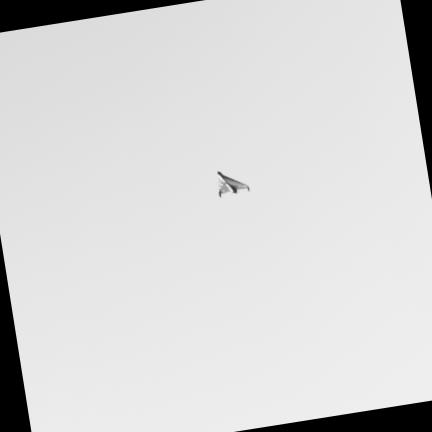Shahed: (218, 171, 249, 196)
